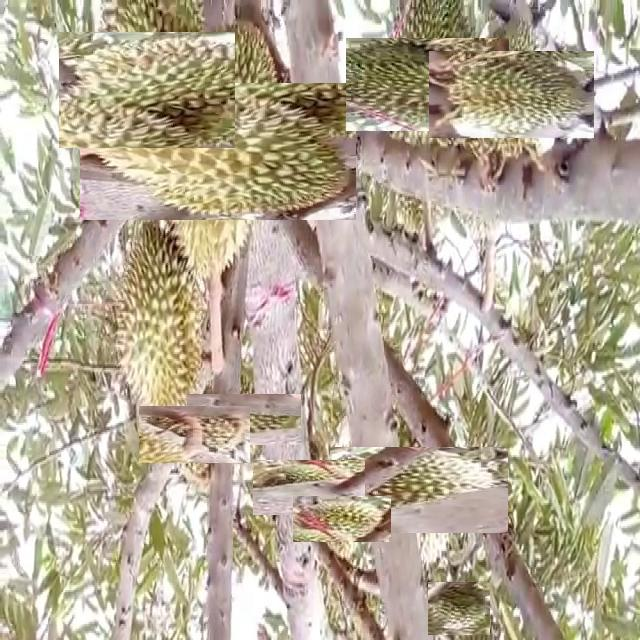durian: (115, 49, 321, 255), (111, 221, 211, 437), (74, 17, 221, 163), (353, 423, 485, 556), (363, 20, 492, 148), (449, 31, 575, 158), (152, 392, 237, 476), (266, 446, 351, 530), (202, 379, 286, 461), (306, 482, 378, 555), (430, 580, 488, 638)
